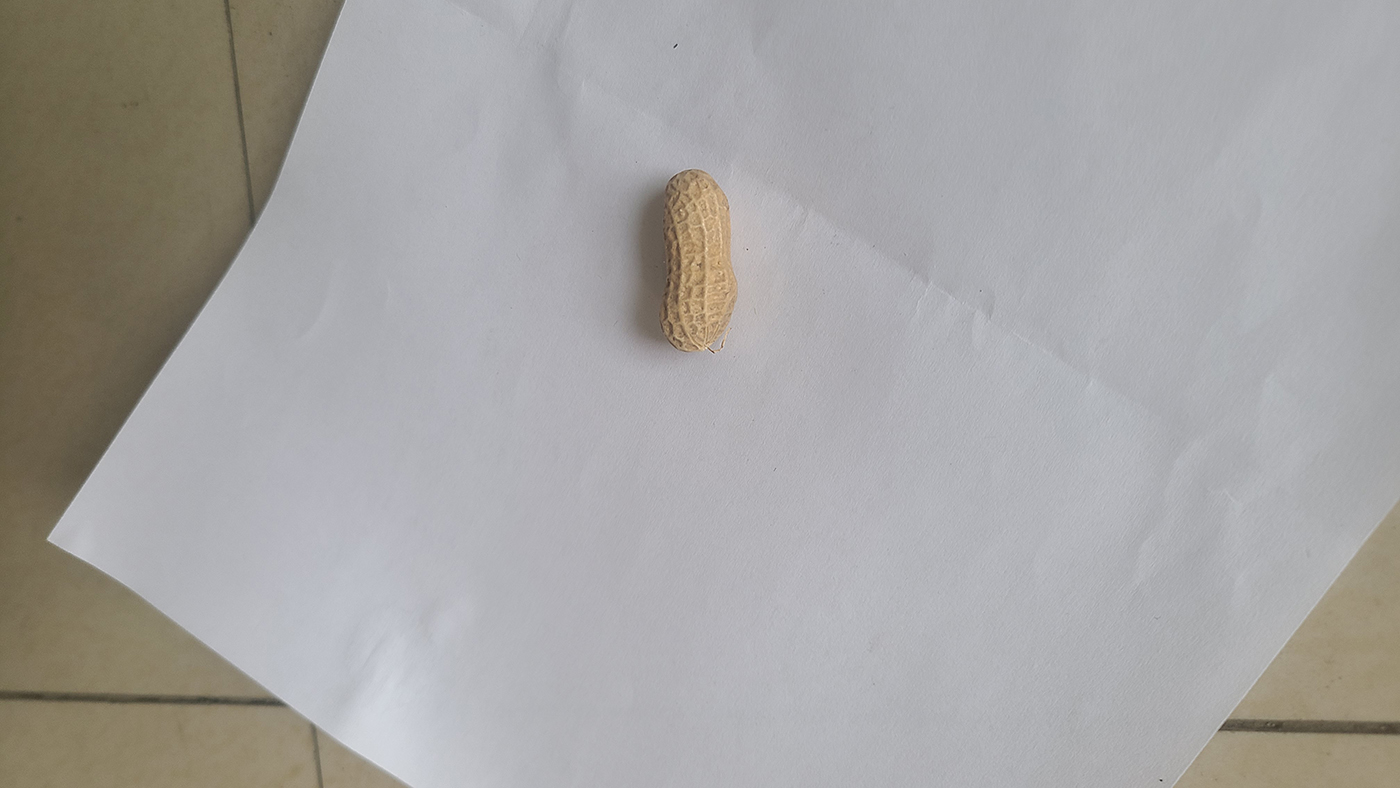h: (662, 168, 738, 352)
